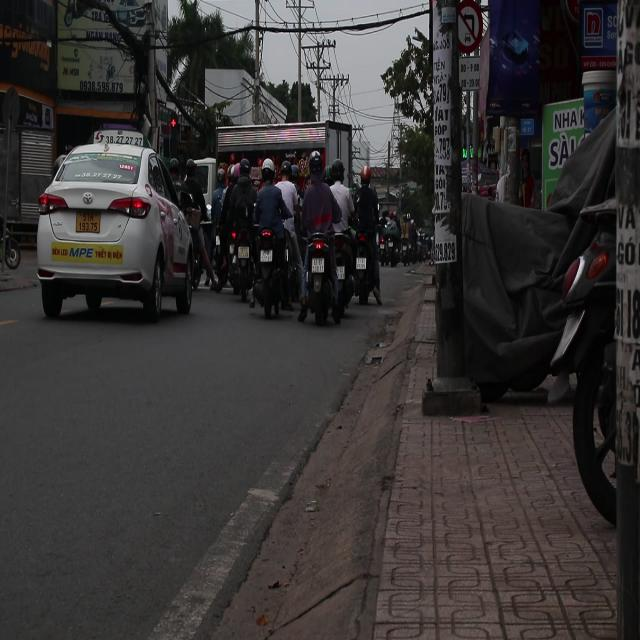car: (36, 142, 198, 322)
motorbike: (296, 225, 358, 328), (250, 221, 296, 318), (228, 223, 258, 304)
